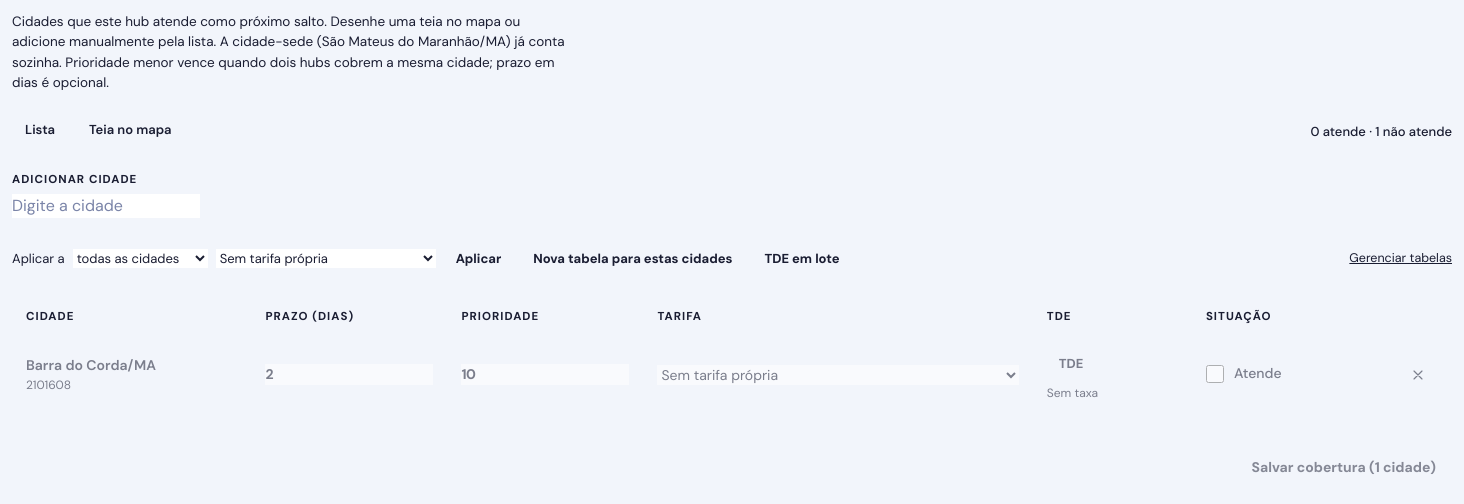
Test: HubCoverage › exibe coluna Tarifa com select, selo Só cobertura e link para gerenciar tabelas
The width and height of the screenshot is (1464, 504).
Note: Selecionar tabela só cobertura deve exibir o selo
Select "Geral Só Cobertura" in the dropdown named "Tarifa de Barra do Corda". click: (838, 374)
box: [657, 364, 1019, 384]
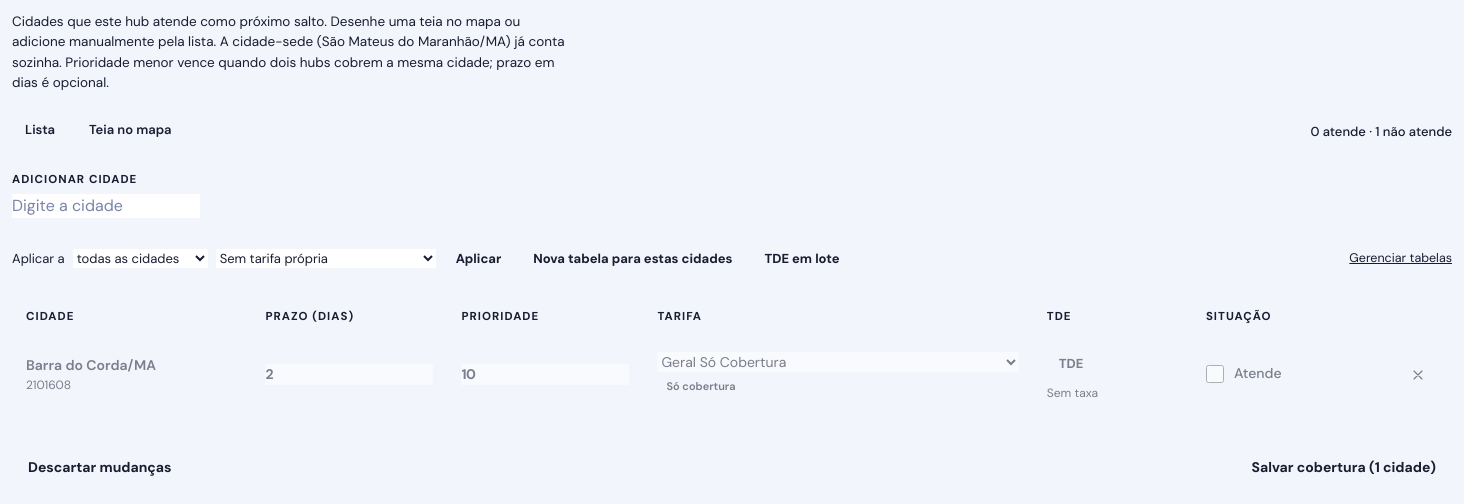
Expected: the text "Só cobertura" is shown, [666, 379, 736, 393]
Expected: the button "Salvar cobertura (1 cidade)" is enabled, [1236, 448, 1452, 488]
